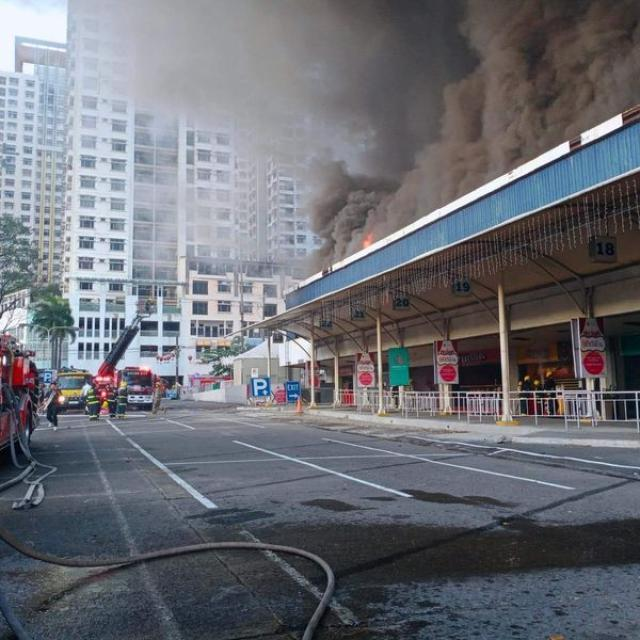Fire: (356, 224, 376, 250)
Smoke: (300, 0, 640, 276)
